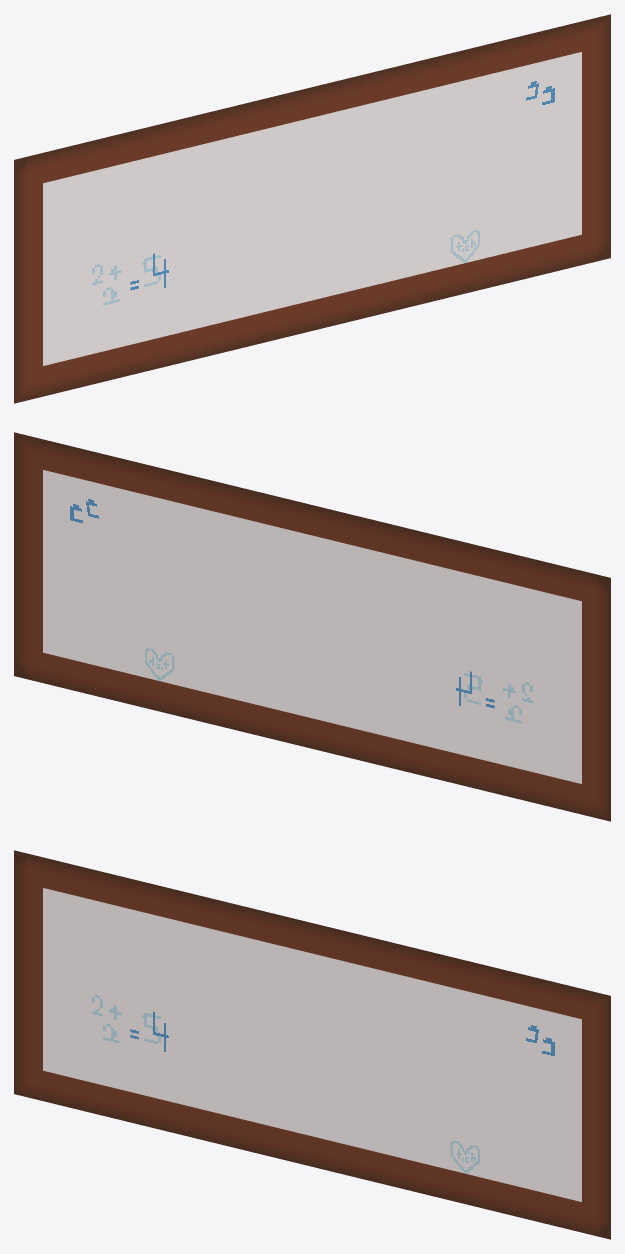
The model's file is whiteboard_00.gltf.
3 views of the same model, one above another, from view 1: azimuth 30°, elevation 25°; view 2: azimuth 150°, elevation 25°; view 3: azimuth 330°, elevation 25° (orthographic).
Bounding box in the file's own units: 41 × 16 × 2.78e-17.
1 material, 1 textured.
